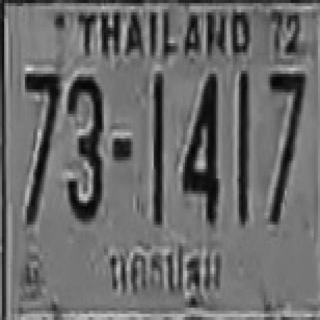N01: (236, 71, 248, 218), (236, 71, 248, 200), (152, 75, 162, 223)
N03: (64, 74, 102, 218)
N04: (181, 71, 216, 222)
N07: (268, 71, 303, 218), (24, 71, 59, 218), (268, 71, 303, 172), (24, 71, 59, 169), (268, 71, 303, 160)
P28: (102, 238, 233, 312)
